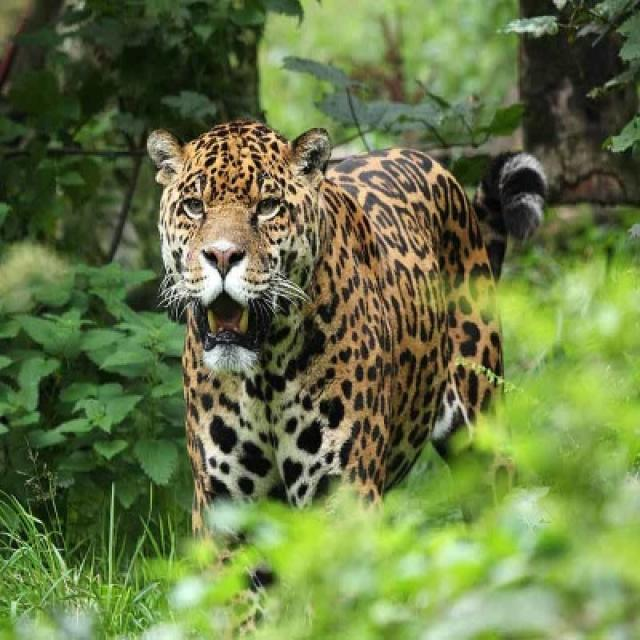Jaguar: (144, 120, 547, 538)
